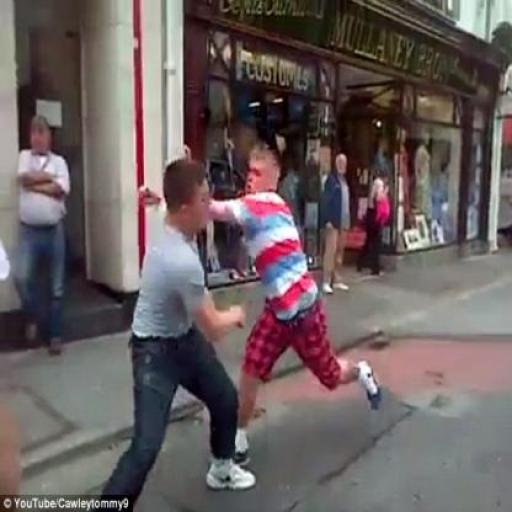Fighting: (96, 134, 388, 510)
